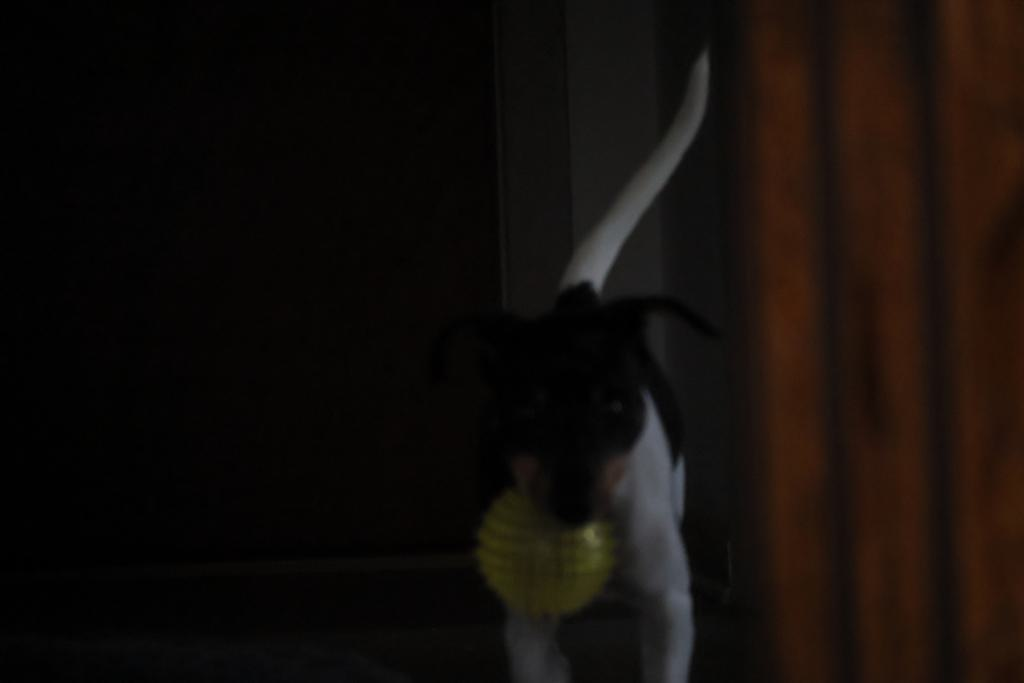Dog: (413, 42, 721, 683)
